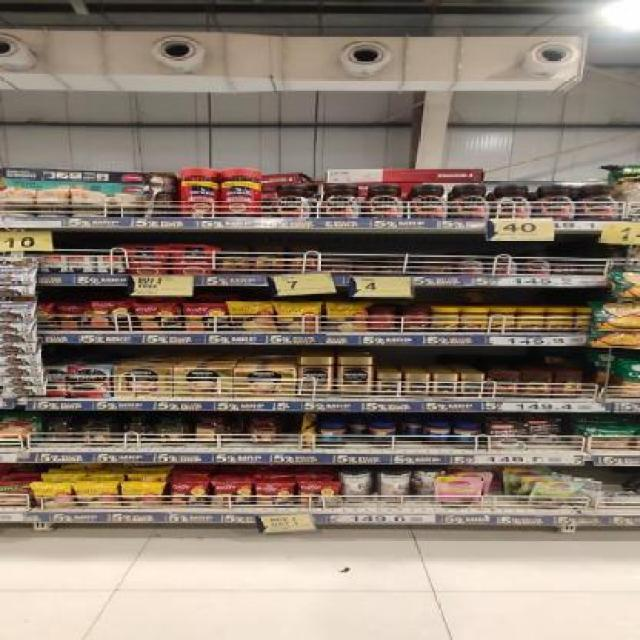Coffee: (297, 357, 335, 399), (336, 358, 374, 398), (580, 185, 622, 221), (319, 184, 362, 218), (534, 185, 577, 219), (492, 186, 535, 220), (449, 185, 490, 219), (408, 185, 448, 219), (272, 185, 312, 218), (365, 185, 403, 219), (69, 367, 107, 396), (489, 253, 517, 275), (456, 252, 483, 273), (553, 259, 583, 276), (379, 373, 401, 396), (406, 374, 428, 397), (461, 374, 483, 397), (525, 253, 549, 274), (435, 374, 457, 396), (583, 260, 611, 276)
